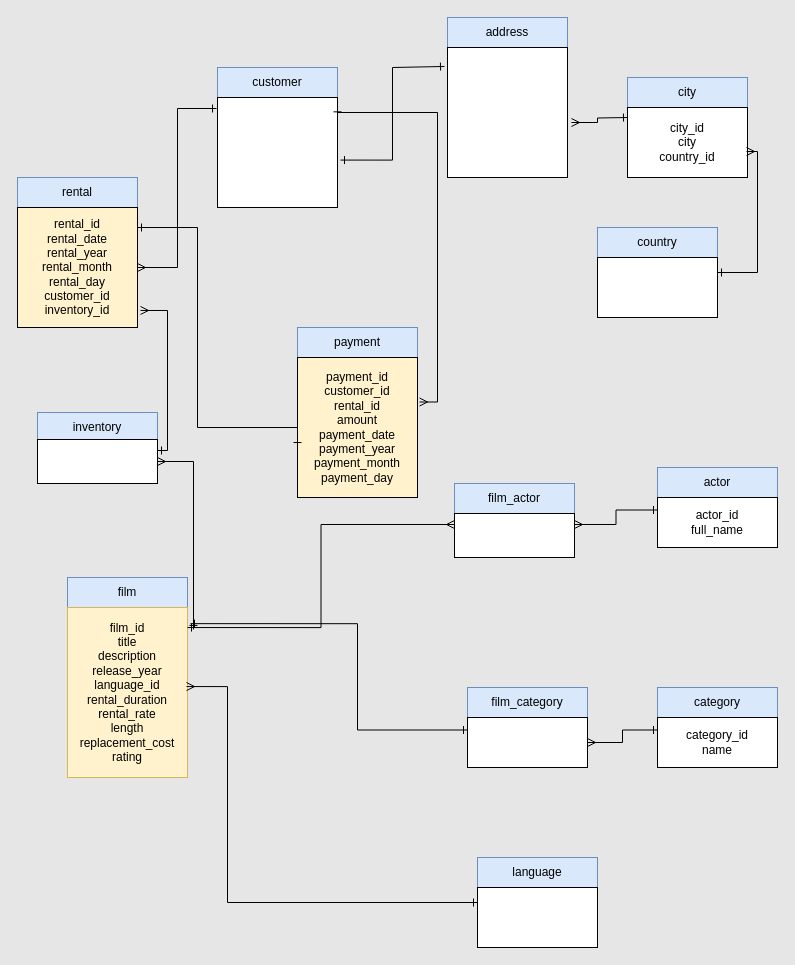
Image size: 795x965. Some labels were removed from this diagram. The shapes that lost their labels are listed below. From the top down, each one's centre as x and y in pixels, then its label:
point 507,112: address_id address address2 district city_id postal_code phone
point 277,152: customer_id full_name email address_id activebool active
point 657,287: country_id country
point 97,461: inventory_id film_id
point 514,535: actor_id film_id
point 527,742: film_id category_id
point 537,917: language_id name last_update
